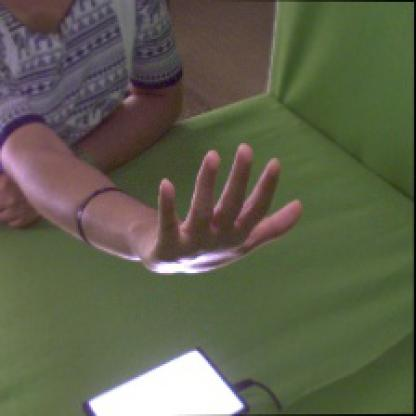Hand: (129, 144, 304, 277)
